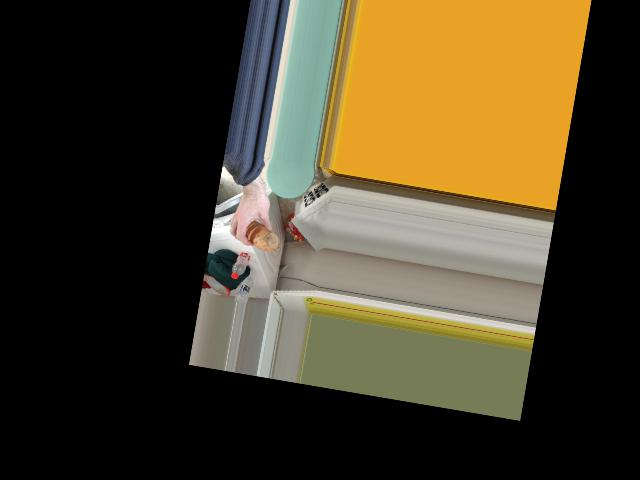sweet_potato: (244, 220, 276, 252)
